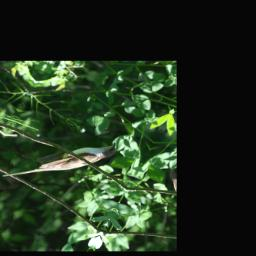Cuckoo: (0, 116, 120, 205)
